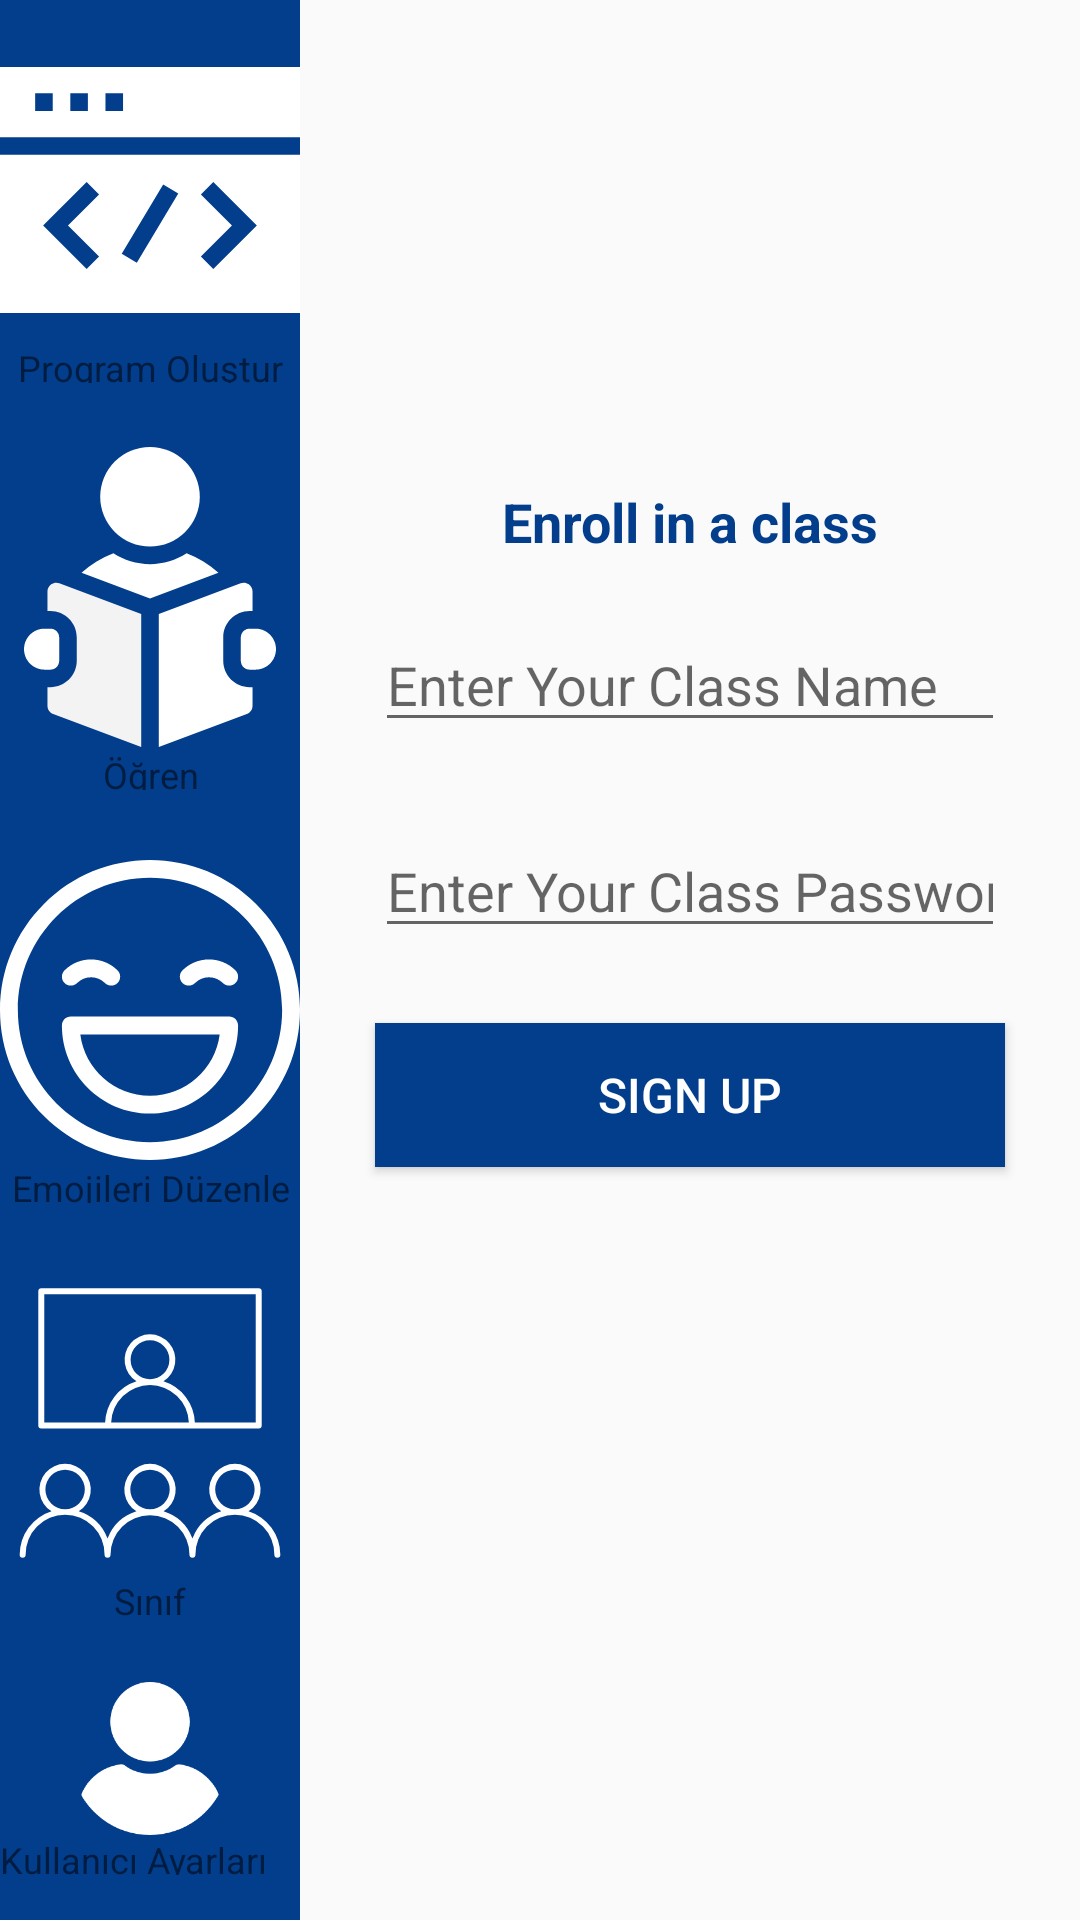

Named icons in this screenshot (1080px x 1920px) and their centers, [x,y]:
coding: [150,190]
happy: [150,1010]
tutorials: [150,597]
